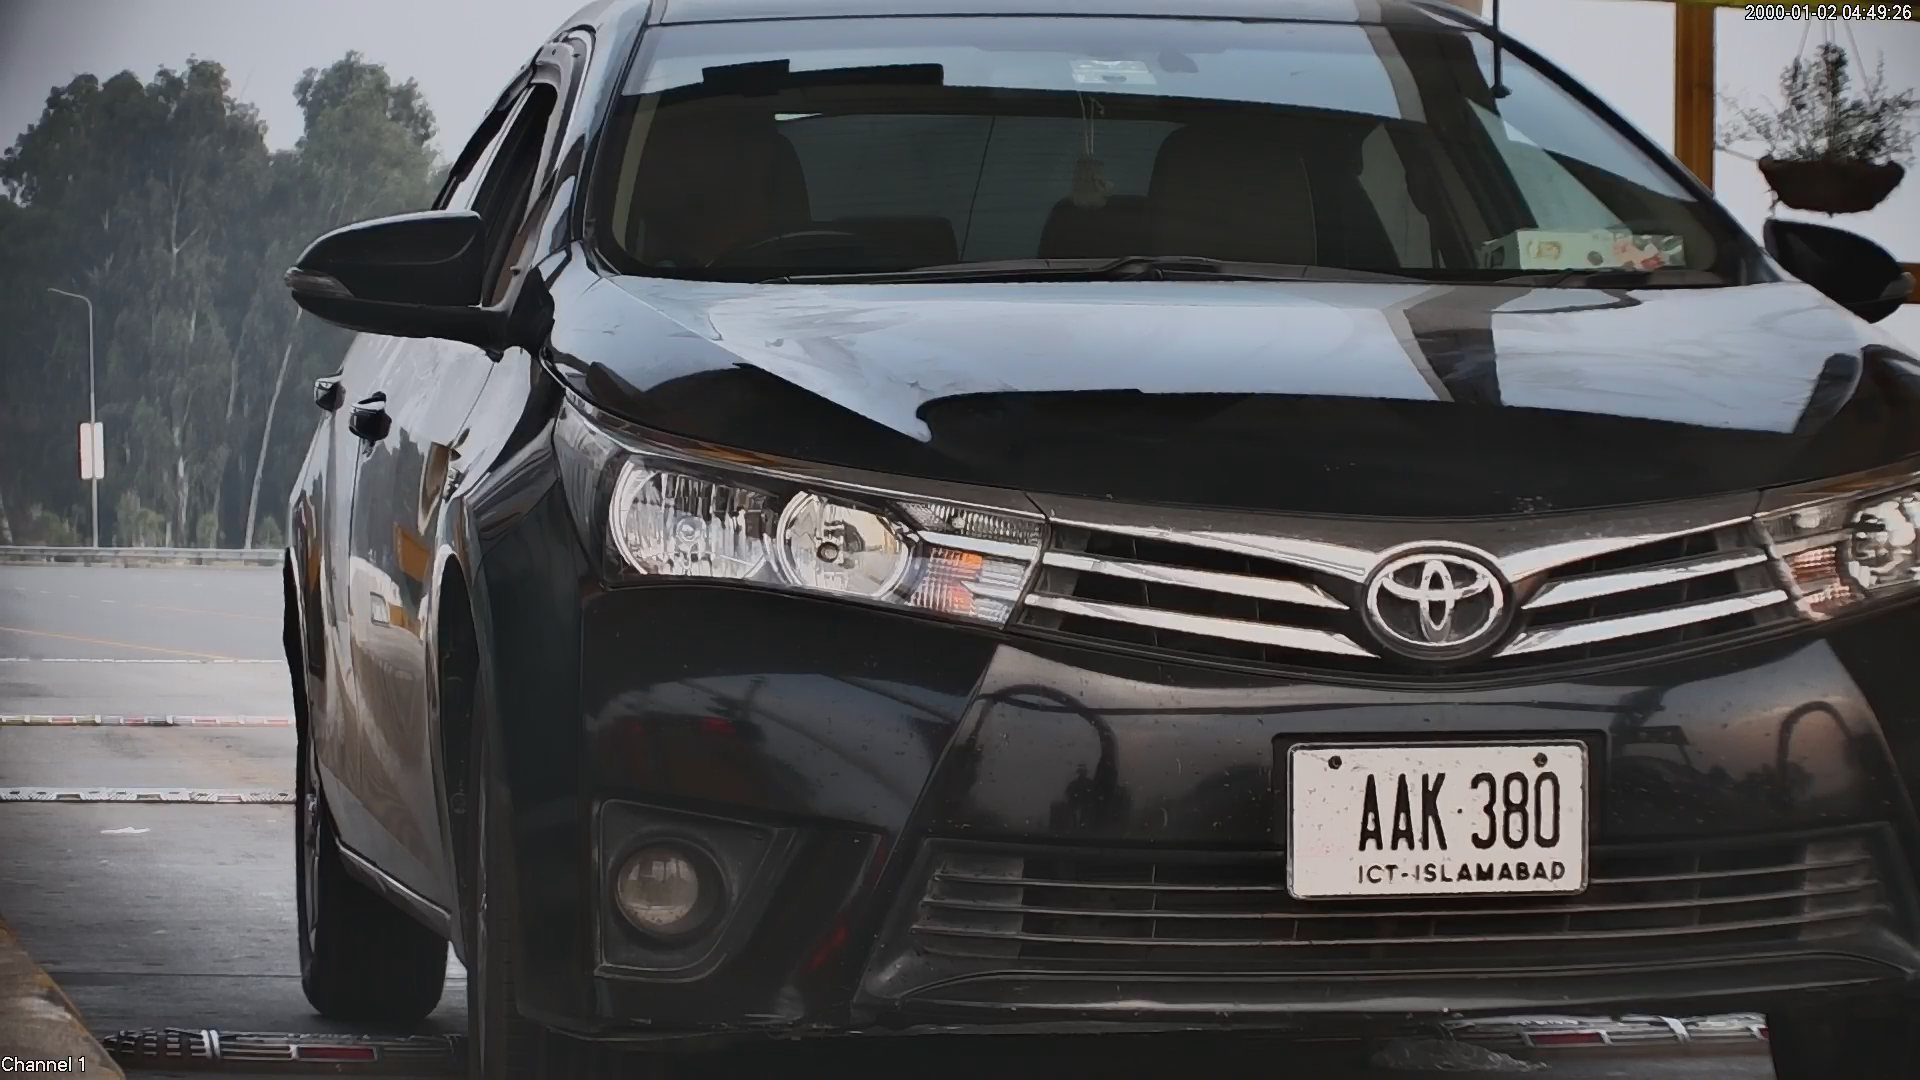Number_Plate: (1277, 728, 1601, 914)
